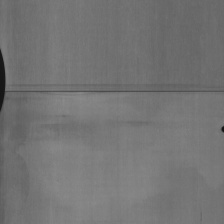welding_line: (3, 87, 224, 101), (0, 41, 7, 111)
